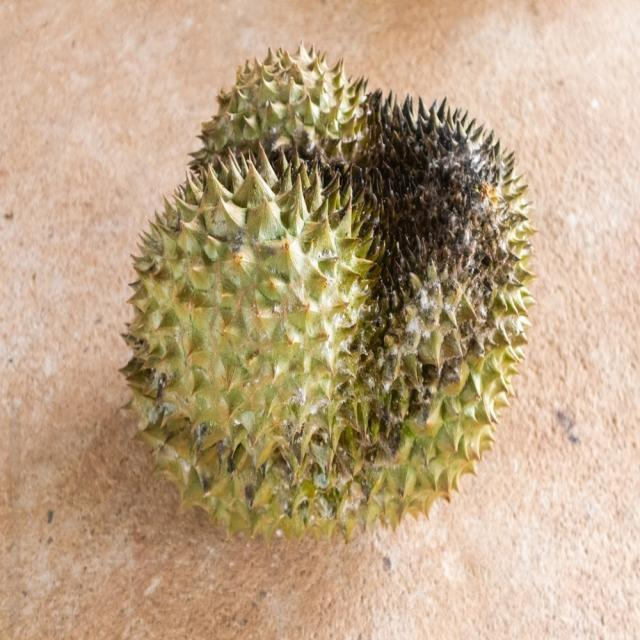defective: (128, 39, 538, 540)
